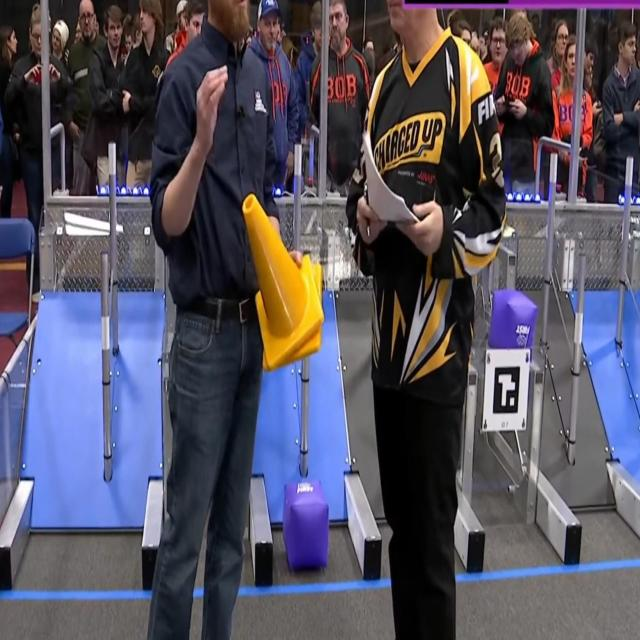frc_cone: (236, 191, 325, 370)
frc_cube: (283, 479, 330, 570), (489, 288, 536, 356)
